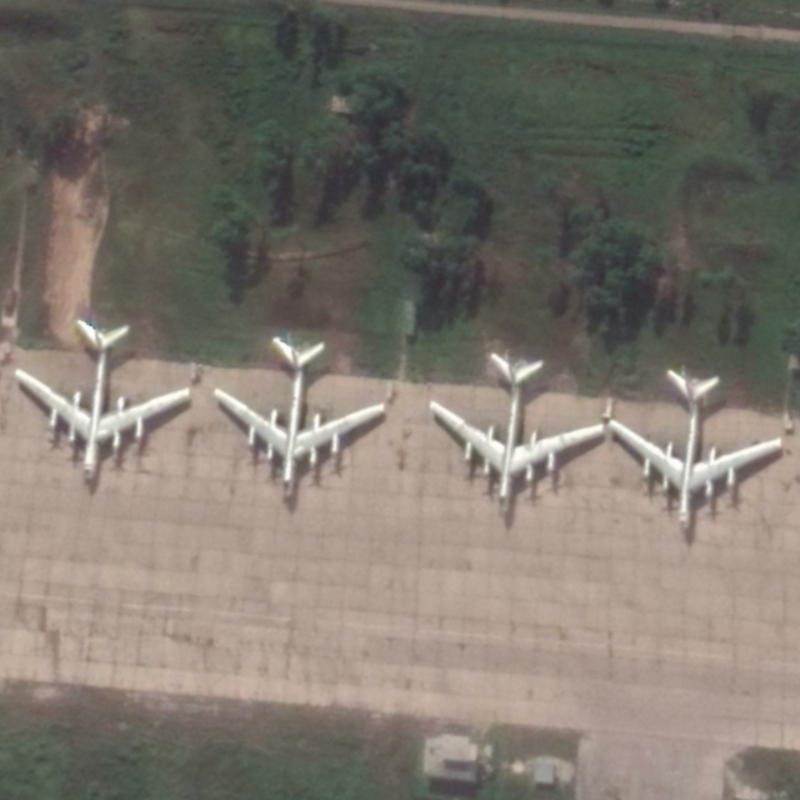A17: (427, 347, 607, 519), (12, 314, 193, 485), (606, 363, 785, 534), (210, 334, 387, 501)
